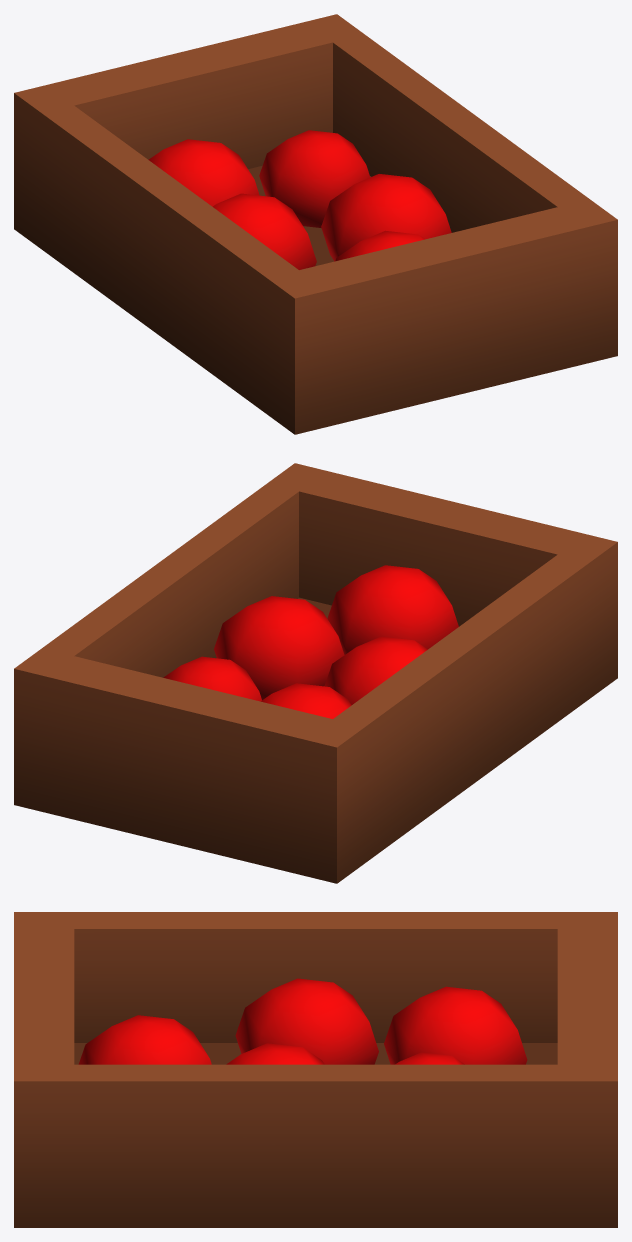
The model's file is apple_01.fbx.
3 renders of one model, top to bottom at view 1: azimuth 30°, elevation 25°; view 2: azimuth 150°, elevation 25°; view 3: azimuth 270°, elevation 25°, orthographic. The views are drawn at different scales.
Visible parts, largest first — view 1: Apple_01; view 2: Apple_01; view 3: Apple_01.
Boxes of the visible parts, x1,y1,x2,y2 form: Apple_01: (14,14,617,434); Apple_01: (14,463,617,883); Apple_01: (14,912,617,1227).
Size of the model in its own units: 32.44 by 13.08 by 48.85.
